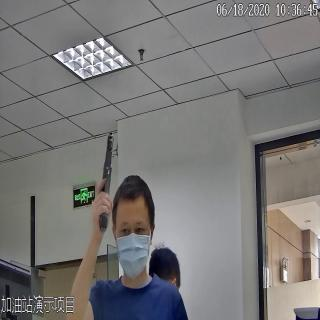gun: (92, 131, 122, 235)
